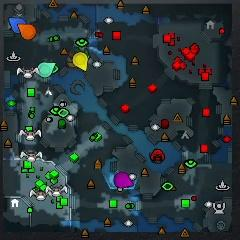p1: (8, 17, 26, 34)
p2: (37, 62, 56, 77)
p3: (114, 172, 133, 188)
p4: (73, 52, 88, 71)
p5: (18, 24, 36, 40)
x2: (67, 50, 77, 68)
x4: (74, 47, 89, 55)
